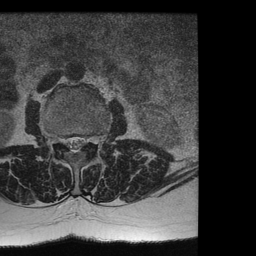CCS_normal: (72, 130, 78, 158)
LFS_stenosis: (86, 131, 93, 150)
LLS_normal: (78, 132, 85, 152)
RFS_stenosis: (58, 131, 65, 151)
RLS_normal: (64, 131, 72, 153)
